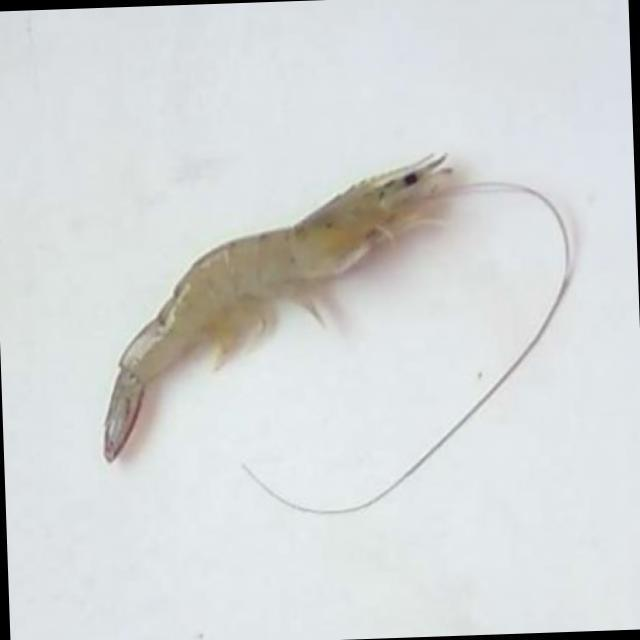shrimp: (104, 153, 448, 462)
